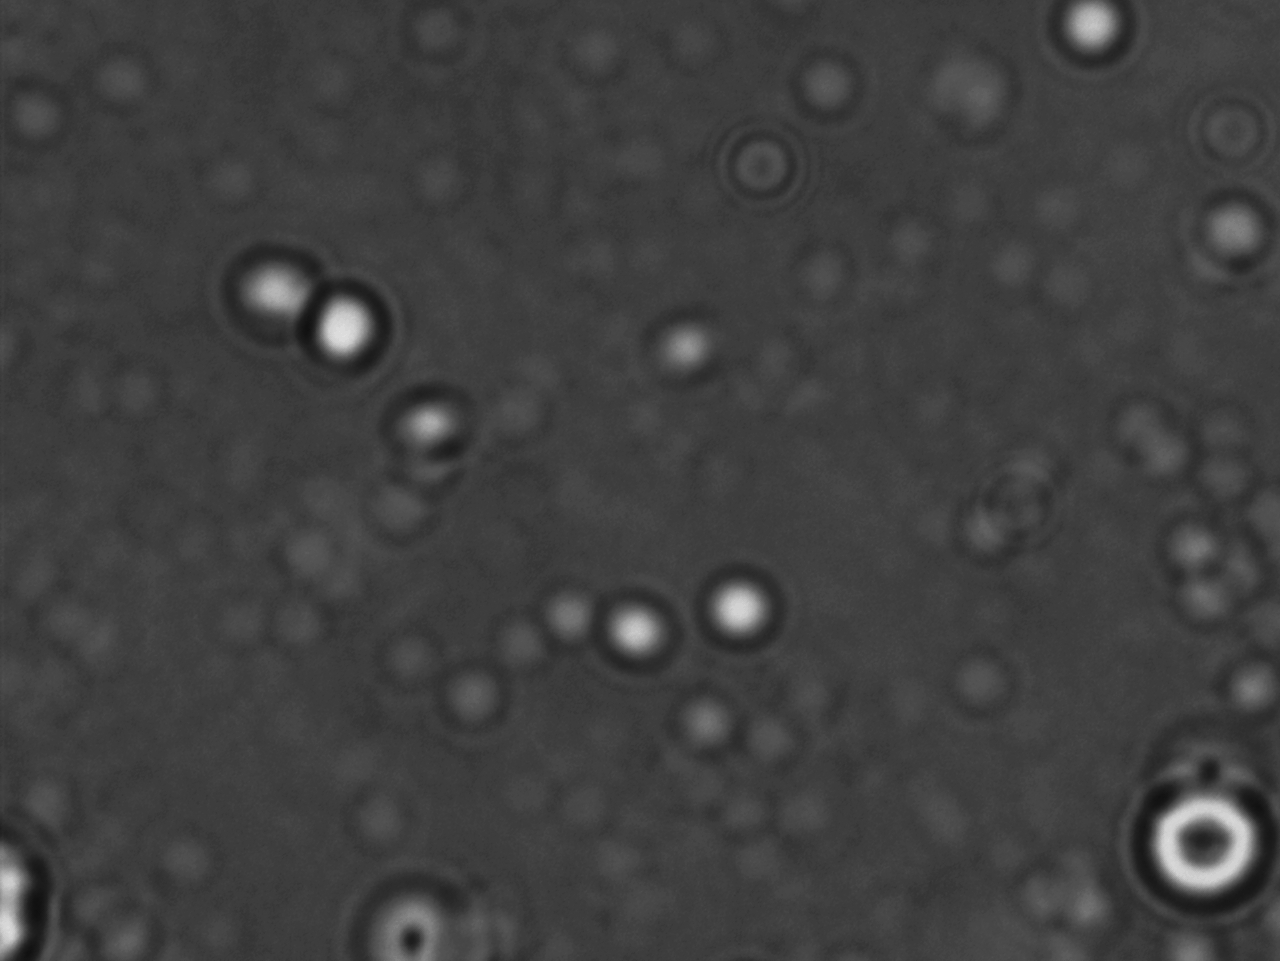depth:24: (1122, 767, 1280, 918)
